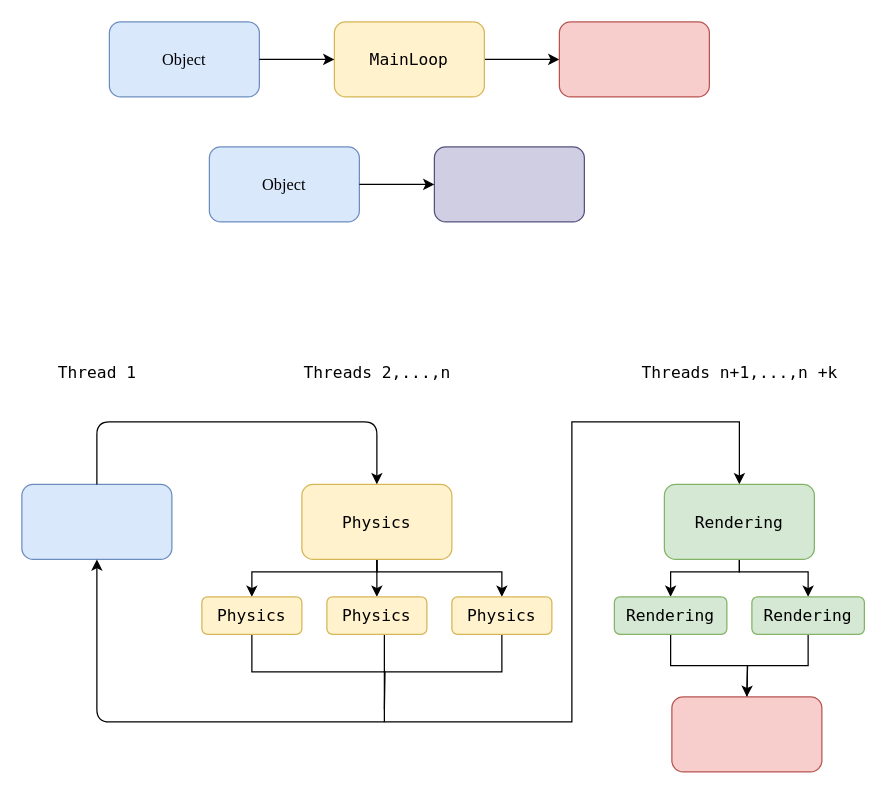
The diagram is 886 pixels wide and 794 high, and some of its shapes have lost their labels. Here are the shapes that lost their labels. From the top down, the centre of each, then its label:
At point 633,59: "SceneTree".
At point 508,184: "Node".
At point 96,521: "Logic".
At point 746,734: "Frame".
